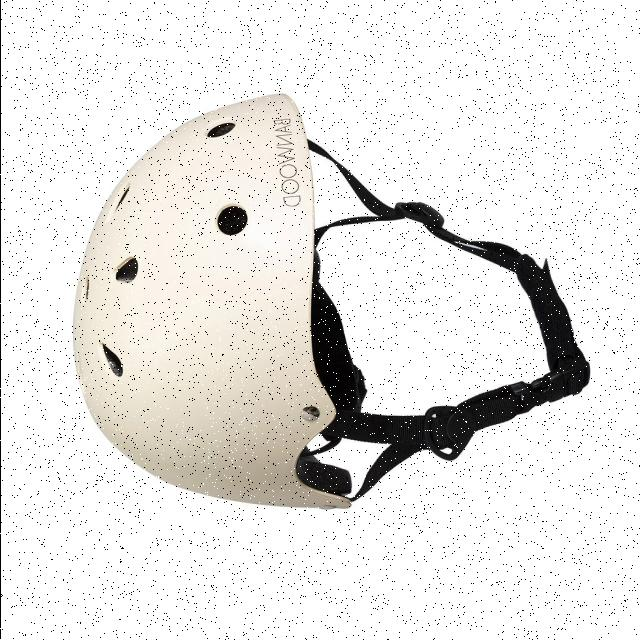Helmet: (68, 90, 354, 510)
